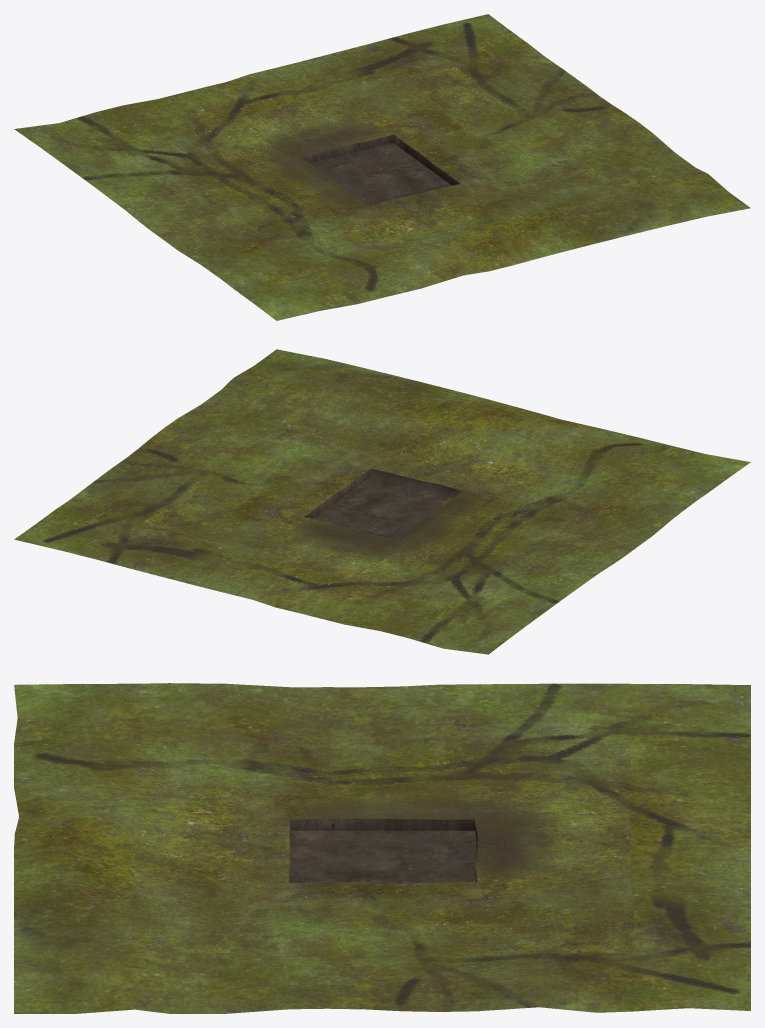
Rendered from raskop_6.FBX.
3 renders of one model, top to bottom at view 1: azimuth 30°, elevation 25°; view 2: azimuth 150°, elevation 25°; view 3: azimuth 270°, elevation 25°, orthographic. The views are drawn at different scales.
Visible parts, largest first — view 1: Plane002; view 2: Plane002; view 3: Plane002.
Part boxes in pixels (left/top/right/bottom): Plane002: left=14, top=14, right=750, bottom=320; Plane002: left=14, top=349, right=750, bottom=654; Plane002: left=14, top=683, right=750, bottom=1013.
Bounding box in the file's own units: 41223 × 1544 × 39513.
Materials: 1 (1 with a texture image).
